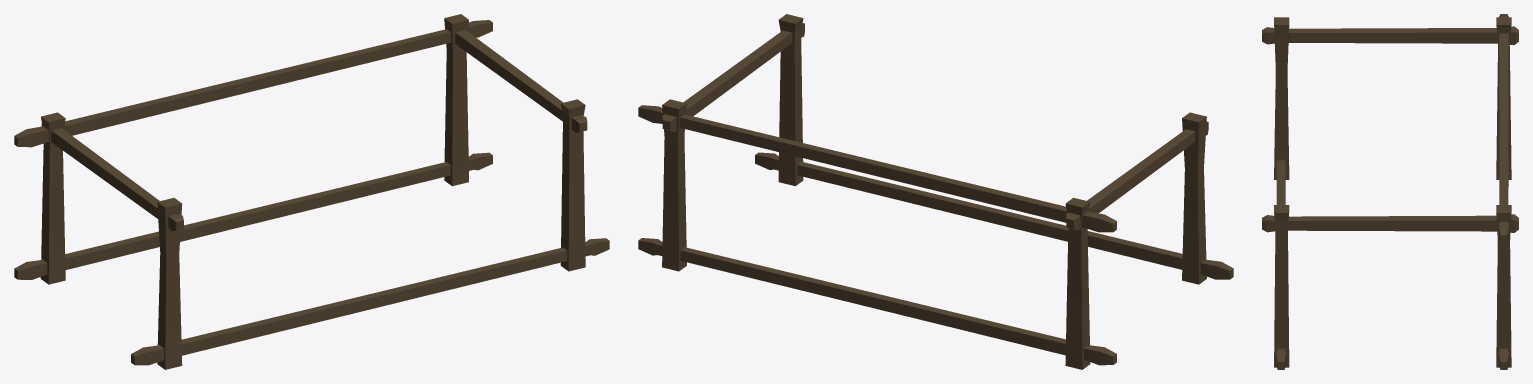
File: SM_Prop_SugarCane_Holder_01.glb
The picture shows the model from 3 angles, left to right: view 1: azimuth 30°, elevation 25°; view 2: azimuth 150°, elevation 25°; view 3: azimuth 270°, elevation 25°; orthographic projection. The views are drawn at different scales.
Visible parts, largest first — view 1: SM_Prop_SugarCane_Holder_01; view 2: SM_Prop_SugarCane_Holder_01; view 3: SM_Prop_SugarCane_Holder_01.
Boxes of the visible parts, x1=… form: SM_Prop_SugarCane_Holder_01: x1=14, y1=14, x2=609, y2=369; SM_Prop_SugarCane_Holder_01: x1=638, y1=14, x2=1233, y2=369; SM_Prop_SugarCane_Holder_01: x1=1262, y1=14, x2=1518, y2=369.
Bounding box in the file's own units: 0.0208 × 0.00677 × 0.0102.
